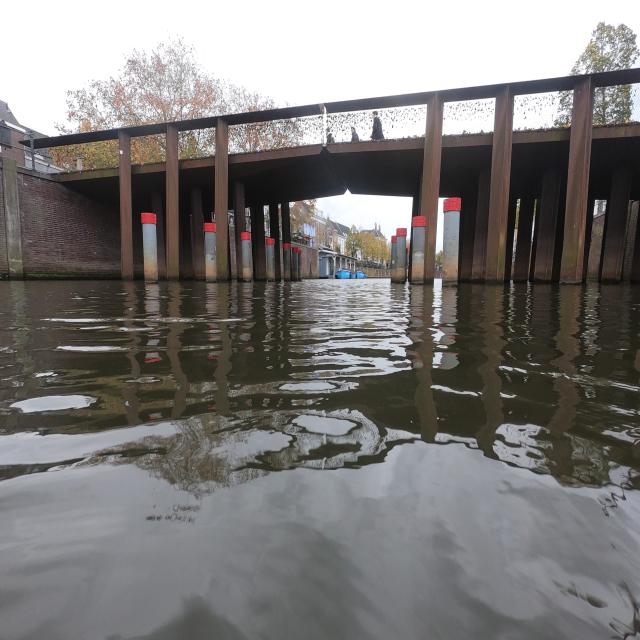boat: (336, 269, 356, 279), (356, 271, 366, 278)
sky: (6, 6, 624, 128), (328, 196, 410, 230)
wall: (0, 144, 116, 276)
water: (0, 279, 640, 640)
